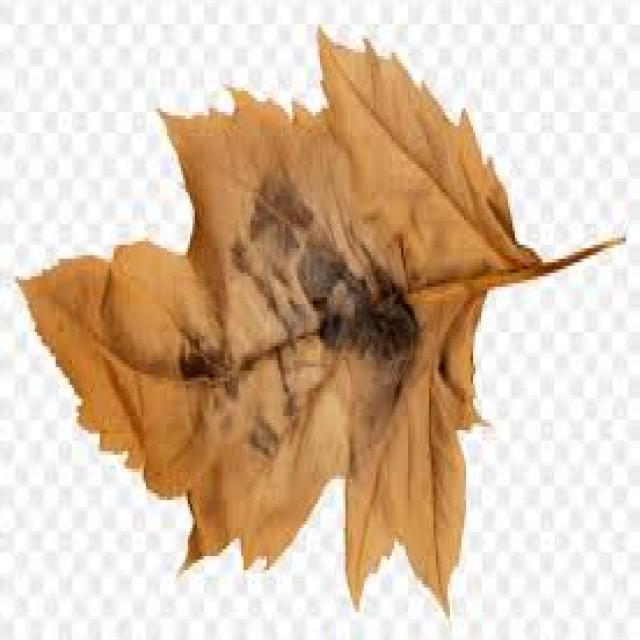leaf: (14, 23, 626, 618)
